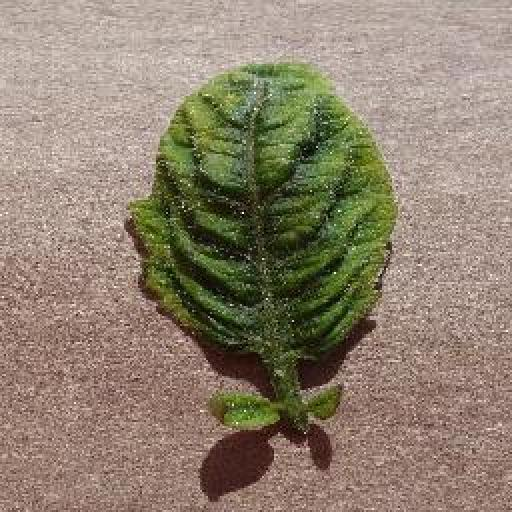Yellow Leaf Curl Virus: (124, 60, 401, 367)
